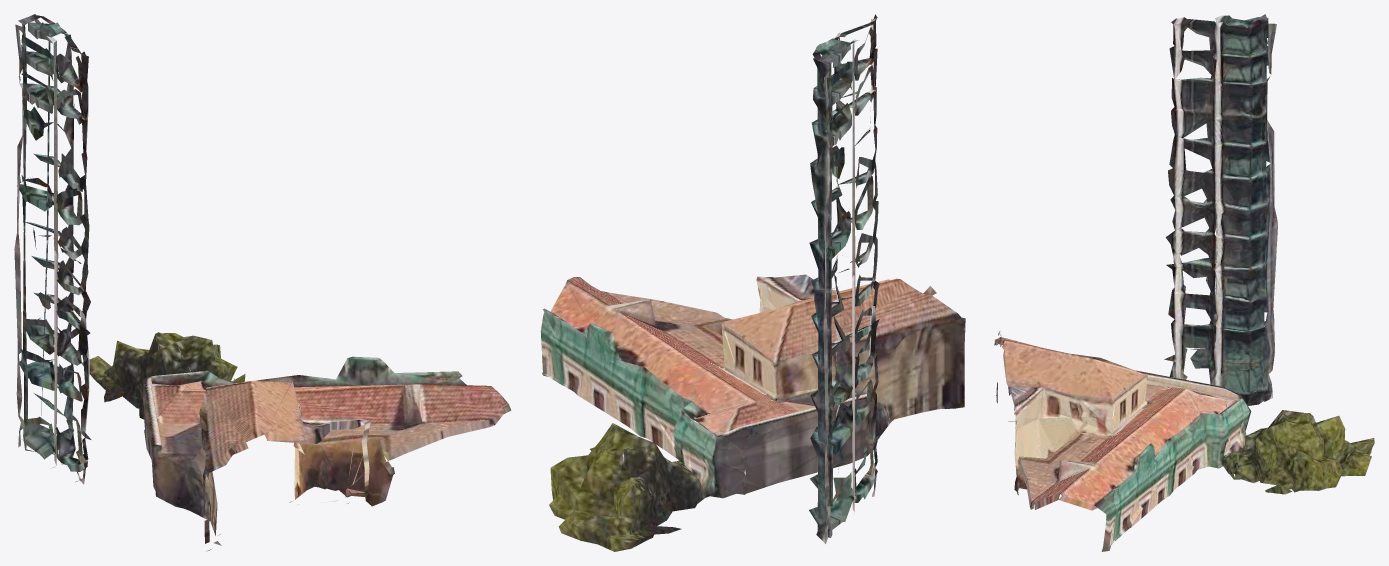
The picture shows the model from 3 angles, left to right: view 1: azimuth 30°, elevation 25°; view 2: azimuth 150°, elevation 25°; view 3: azimuth 270°, elevation 25°; orthographic projection. The views are drawn at different scales.
Parts seen in each view (by area): view 1: Mesh_0; view 2: Mesh_0; view 3: Mesh_0.
Part boxes in pixels (x1,y1,x2,y2): Mesh_0: (14, 14, 511, 550); Mesh_0: (540, 14, 965, 551); Mesh_0: (994, 14, 1374, 551).
Size of the model in its own units: 32.29 by 37.29 by 33.13.
Materials: 1 (1 with a texture image).
